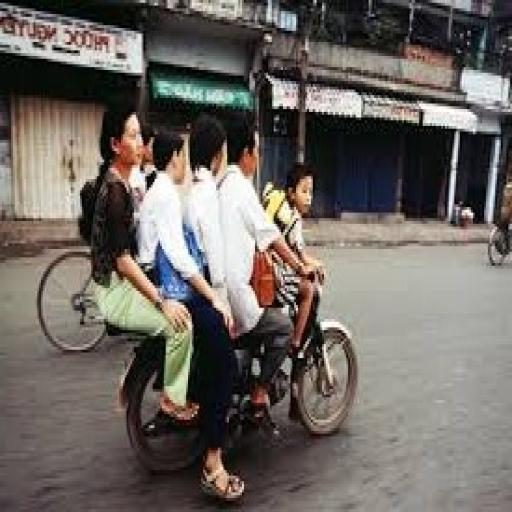overloading: (114, 258, 361, 476)
